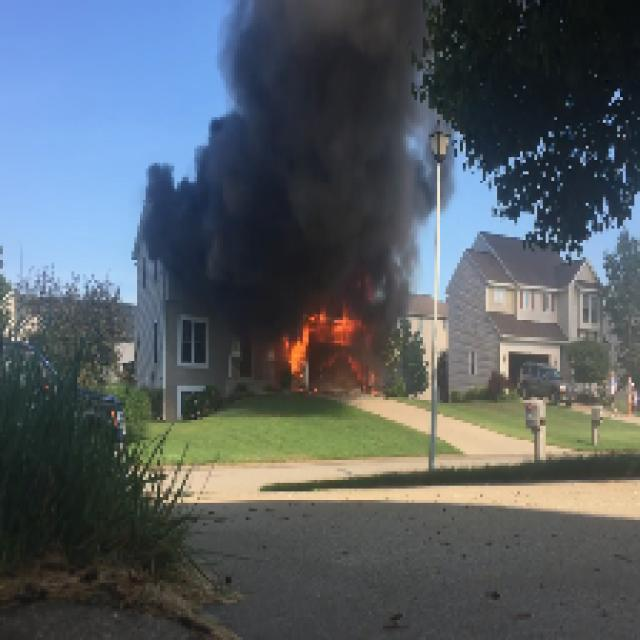Fire: (307, 320, 358, 340), (290, 340, 308, 375)
Smoke: (226, 0, 411, 309)
